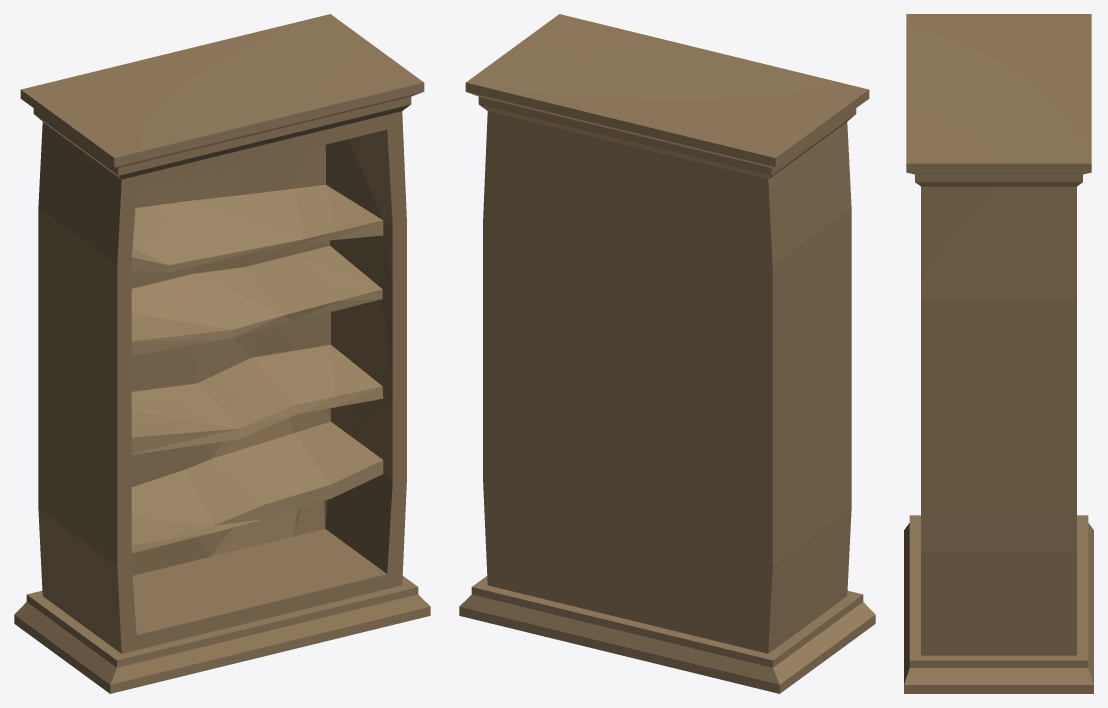
The model's file is shelf_1_B.obj.
3 views of the same model, side by side, from view 1: azimuth 30°, elevation 25°; view 2: azimuth 150°, elevation 25°; view 3: azimuth 270°, elevation 25° (orthographic).
Parts seen in each view (by area): view 1: shelf_1_B_Material; view 2: shelf_1_B_Material; view 3: shelf_1_B_Material.
Part boxes in pixels (box(x1,y1,x2,y2)): shelf_1_B_Material: box(14, 14, 430, 693); shelf_1_B_Material: box(459, 14, 875, 693); shelf_1_B_Material: box(904, 14, 1093, 693).
Bounding box in the file's own units: 1.01 × 1.6 × 0.5232.
